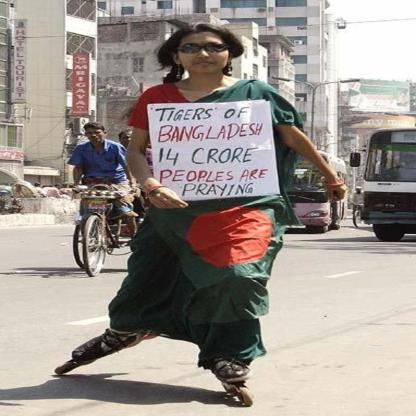face: (178, 33, 230, 75), (87, 128, 105, 144), (121, 133, 139, 149)
